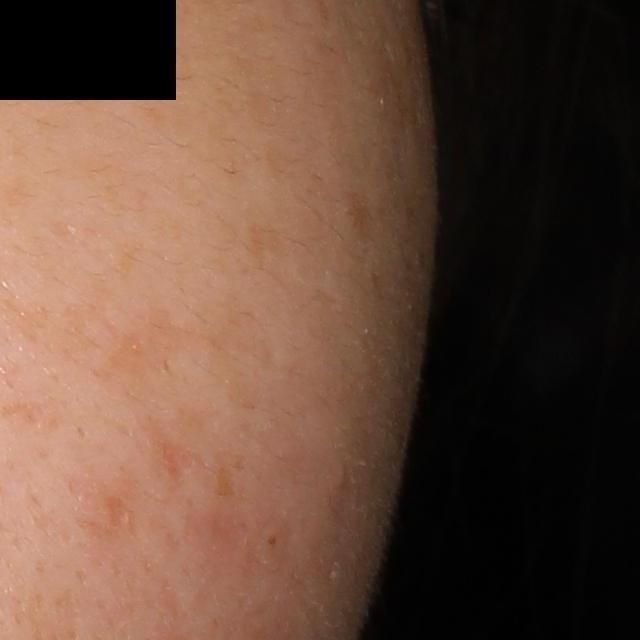atrophic_scar: (104, 494, 135, 533)
comedo: (264, 530, 283, 550)
melasma: (87, 303, 202, 415), (241, 217, 287, 275), (343, 191, 378, 241)
